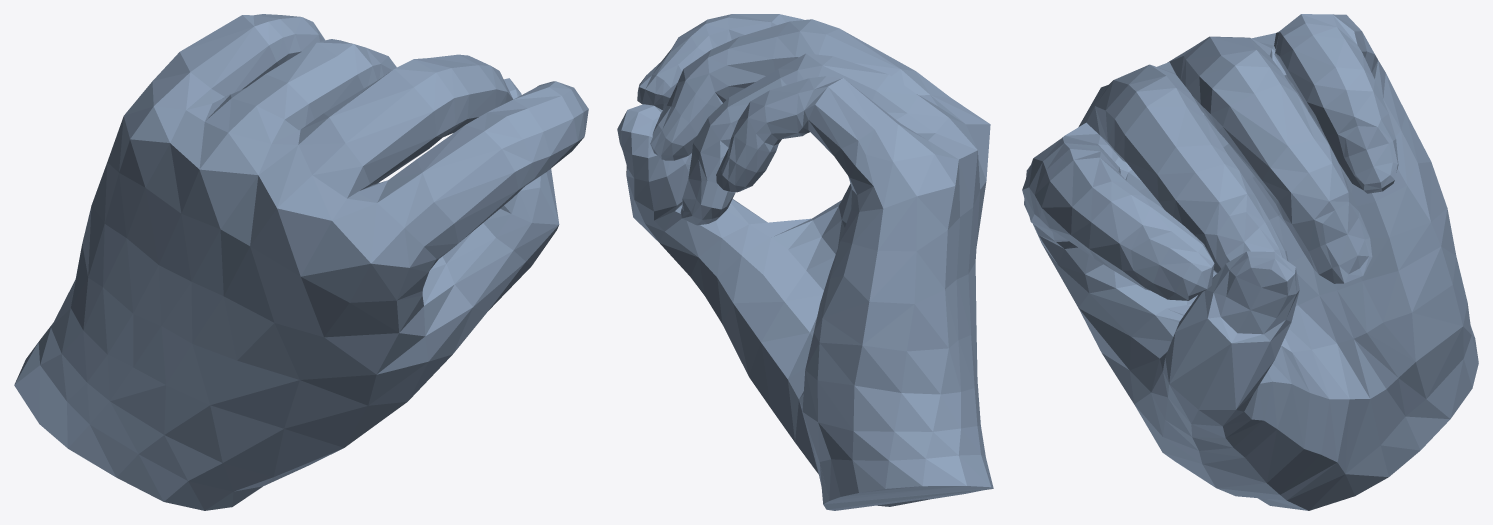
3 views of the same model, side by side, from view 1: azimuth 30°, elevation 25°; view 2: azimuth 150°, elevation 25°; view 3: azimuth 270°, elevation 25° (orthographic). The views are drawn at different scales.
Bounding box in the file's own units: 0.1251 × 0.1216 × 0.0983.
